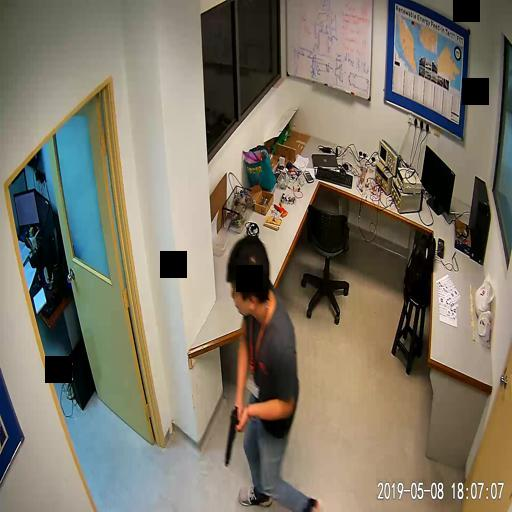Handgun: (223, 402, 237, 467)
